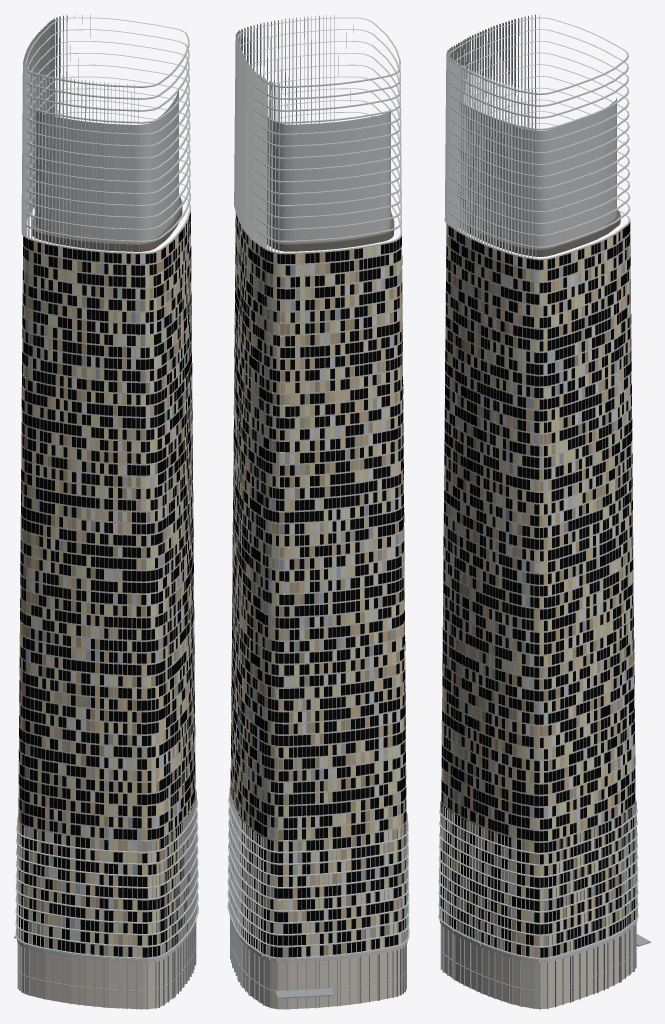
The model's file is salesforce_lod0.glb.
The picture shows the model from 3 angles, left to right: view 1: azimuth 30°, elevation 25°; view 2: azimuth 150°, elevation 25°; view 3: azimuth 270°, elevation 25°; orthographic projection.
Parts seen in each view (by area): view 1: L0_win, L0_paint, L0_shop, L0_metal, L0_roof, L0_lamp; view 2: L0_win, L0_paint, L0_shop, L0_metal, L0_roof, L0_lamp; view 3: L0_win, L0_paint, L0_shop, L0_metal, L0_roof, L0_lamp.
Part boxes in pixels (x1,y1,x2,y2): L0_win: (17, 212, 195, 957); L0_paint: (15, 14, 198, 962); L0_shop: (20, 931, 191, 1009); L0_metal: (14, 921, 196, 1009); L0_roof: (32, 197, 182, 251); L0_lamp: (34, 104, 178, 237); L0_win: (230, 213, 406, 957); L0_paint: (227, 15, 409, 962); L0_shop: (233, 926, 404, 1009); L0_metal: (230, 917, 406, 1009); L0_roof: (267, 211, 394, 251); L0_lamp: (268, 124, 390, 237); L0_win: (440, 222, 635, 957); L0_paint: (438, 14, 638, 963); L0_shop: (442, 926, 633, 1009); L0_metal: (440, 923, 650, 1009); L0_roof: (460, 210, 620, 257); L0_lamp: (460, 114, 614, 243).
Bounding box in the file's own units: 65.13 × 327 × 68.89.
